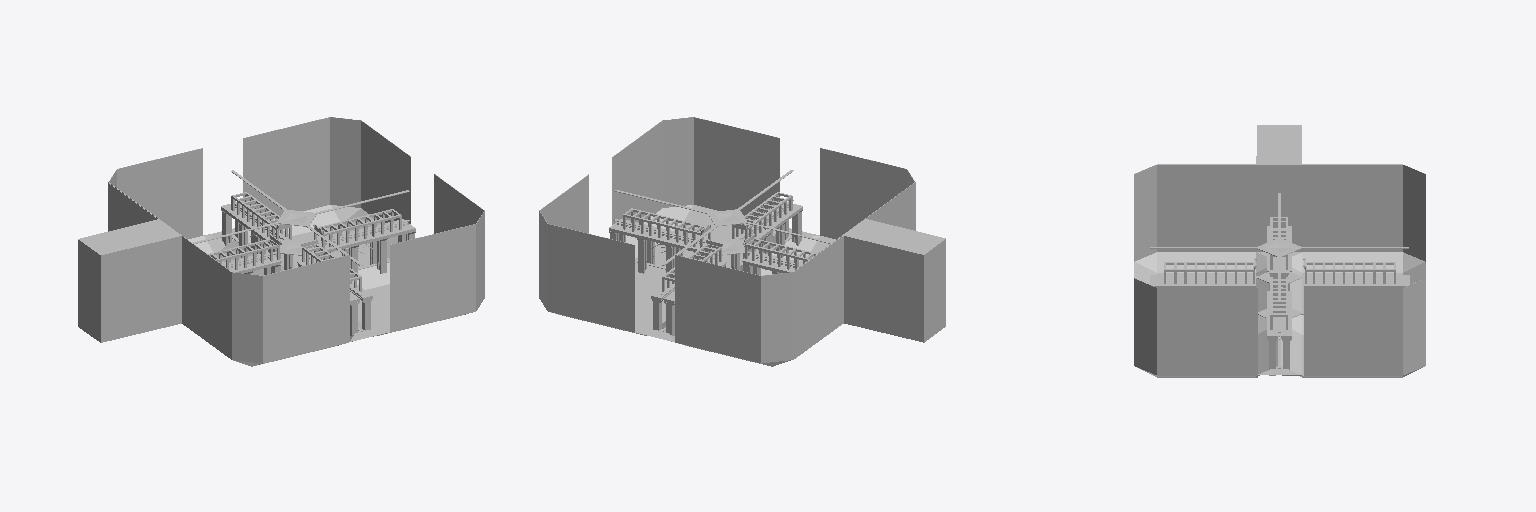
File: testworld.obj
3 renders of one model, left to right at view 1: azimuth 30°, elevation 25°; view 2: azimuth 150°, elevation 25°; view 3: azimuth 270°, elevation 25°, orthographic.
Parts seen in each view (by area): view 1: entity0_brush47, entity74_brush0, entity74_brush1, entity76_brush0, entity76_brush1, entity73_brush1, entity75_brush1, entity73_brush2, entity75_brush2, entity75_brush0, entity0_brush48, entity0_brush22 (+5 smaller); view 2: entity0_brush47, entity76_brush0, entity76_brush1, entity74_brush1, entity74_brush0, entity0_brush48, entity75_brush0, entity76_brush2, entity74_brush2, entity75_brush1, entity73_brush1, entity0_brush13 (+5 smaller); view 3: entity75_brush0, entity75_brush1, entity73_brush0, entity73_brush1, entity0_brush47, entity74_brush2, entity75_brush2, entity76_brush2, entity73_brush2, entity0_brush6, entity0_brush32, entity11_brush0 (+1 smaller).
Boxes of the visible parts, x1=… form: entity0_brush47: x1=78, y1=219, x2=181, y2=342; entity74_brush0: x1=263, y1=255, x2=349, y2=362; entity74_brush1: x1=390, y1=224, x2=475, y2=331; entity76_brush0: x1=243, y1=117, x2=329, y2=219; entity76_brush1: x1=117, y1=148, x2=202, y2=239; entity73_brush1: x1=182, y1=236, x2=231, y2=359; entity75_brush1: x1=361, y1=120, x2=410, y2=223; entity73_brush2: x1=232, y1=272, x2=262, y2=362; entity75_brush2: x1=330, y1=117, x2=360, y2=207; entity75_brush0: x1=434, y1=174, x2=484, y2=233; entity0_brush48: x1=108, y1=183, x2=156, y2=231; entity0_brush22: x1=358, y1=284, x2=461, y2=334; entity0_brush47: x1=843, y1=219, x2=945, y2=342; entity76_brush0: x1=548, y1=224, x2=634, y2=332; entity76_brush1: x1=675, y1=255, x2=760, y2=362; entity74_brush1: x1=694, y1=117, x2=779, y2=219; entity74_brush0: x1=820, y1=148, x2=906, y2=239; entity0_brush48: x1=793, y1=236, x2=843, y2=359; entity75_brush0: x1=612, y1=120, x2=662, y2=224; entity76_brush2: x1=761, y1=272, x2=791, y2=362; entity74_brush2: x1=663, y1=117, x2=693, y2=207; entity75_brush1: x1=539, y1=174, x2=588, y2=233; entity73_brush1: x1=865, y1=182, x2=915, y2=230; entity0_brush13: x1=562, y1=284, x2=665, y2=334; entity75_brush0: x1=1157, y1=288, x2=1257, y2=375; entity75_brush1: x1=1304, y1=288, x2=1402, y2=375; entity73_brush0: x1=1302, y1=164, x2=1402, y2=251; entity73_brush1: x1=1157, y1=164, x2=1255, y2=251; entity0_brush47: x1=1256, y1=125, x2=1301, y2=251; entity74_brush2: x1=1134, y1=278, x2=1156, y2=374; entity75_brush2: x1=1403, y1=278, x2=1425, y2=374; entity76_brush2: x1=1403, y1=165, x2=1425, y2=261; entity73_brush2: x1=1134, y1=165, x2=1156, y2=261; entity0_brush6: x1=1302, y1=252, x2=1402, y2=272; entity0_brush32: x1=1157, y1=252, x2=1255, y2=272; entity11_brush0: x1=1304, y1=281, x2=1409, y2=287.
Size of the model in its own units: 21984 by 6240 by 16640.